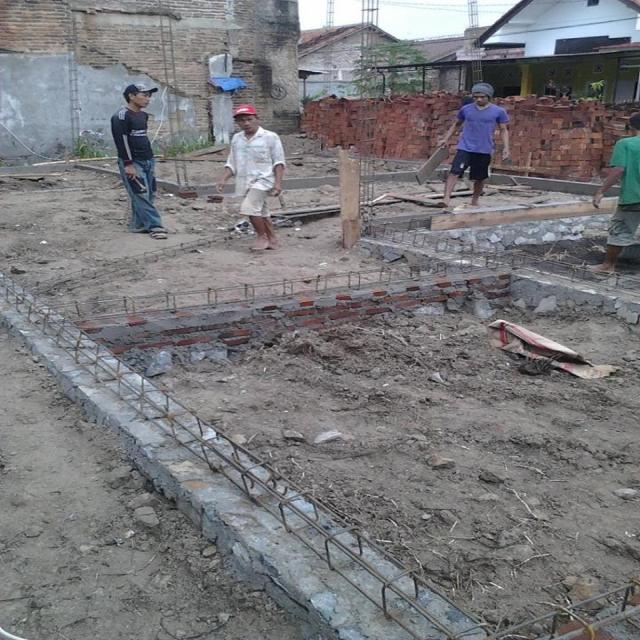no_boots: (584, 257, 616, 276), (246, 234, 270, 252), (146, 228, 170, 242), (265, 237, 281, 250), (434, 198, 450, 208), (464, 200, 480, 208)
no_gloves: (109, 155, 149, 180), (260, 177, 287, 205), (208, 174, 238, 195), (589, 188, 610, 212), (498, 148, 511, 162), (435, 138, 449, 150)
no_hardhat: (120, 81, 159, 112), (229, 103, 262, 136), (468, 82, 497, 106), (622, 107, 640, 141)
no_vest: (215, 122, 292, 200), (104, 103, 164, 169), (449, 100, 509, 158), (606, 134, 640, 207)
person: (104, 76, 172, 243), (215, 103, 289, 253), (431, 81, 510, 209), (582, 110, 640, 276)
